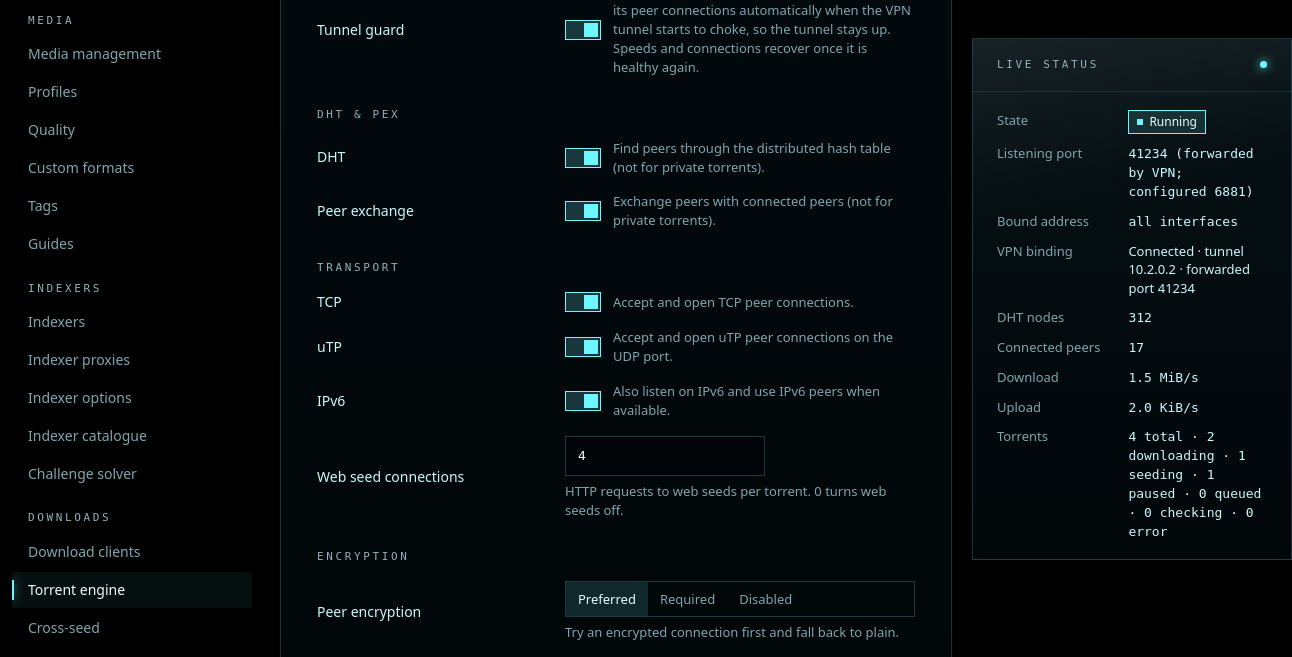
it: Settings -> Torrent engine transport and encryption › warns when TCP and uTP are both off
(page scrolled)
Click the switch named "TCP" at (583, 302), box [565, 292, 601, 312]
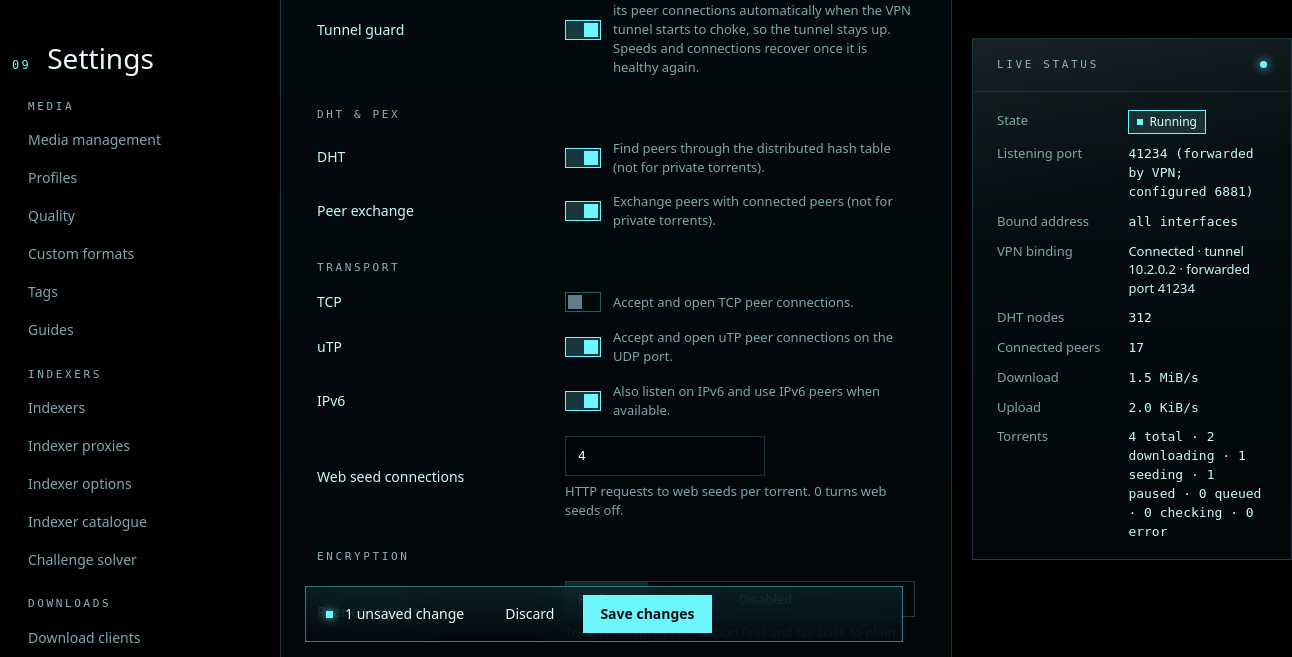
Expected: the text "TCP and uTP are both off" is not shown
Click the switch named "uTP" at (583, 347), box [565, 337, 601, 357]
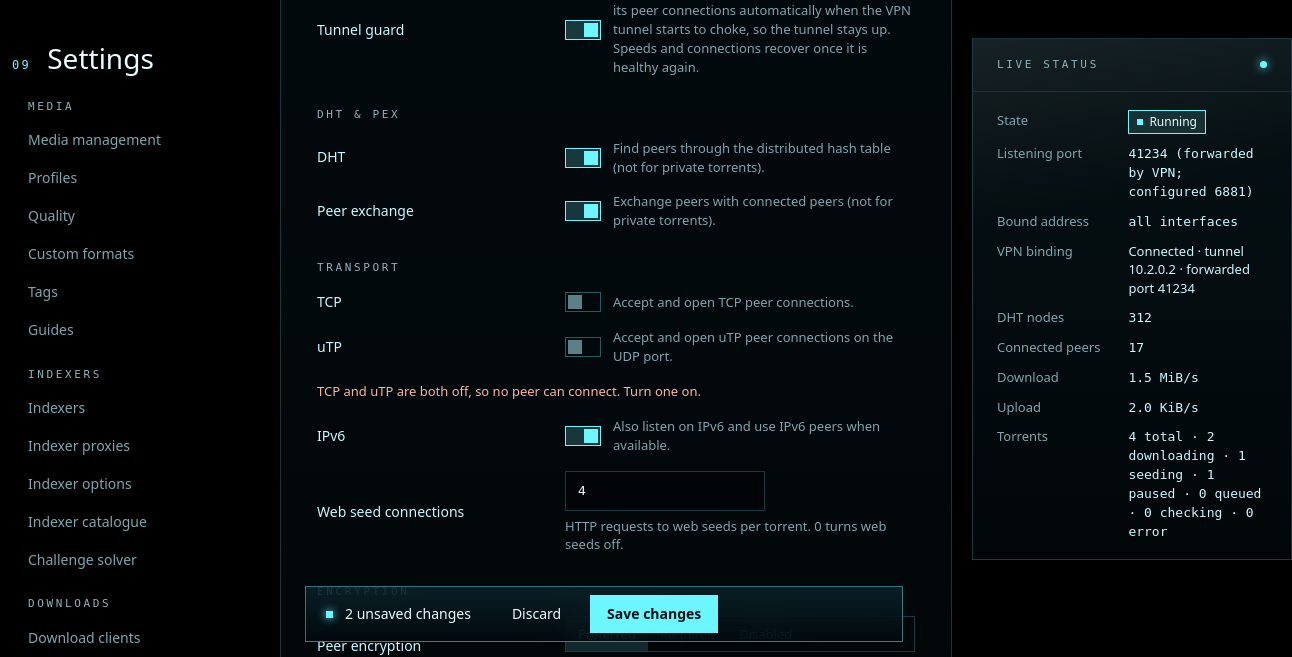
Result: the message shows "TCP and uTP are both off" at [317, 382, 701, 400]
